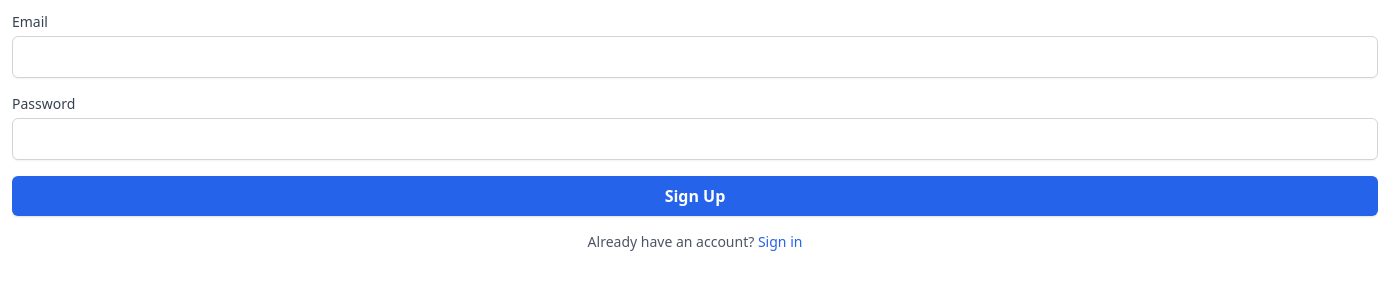
Test: SignUpForm › shows API error message when sign-up returns a conflict
This screenshot has width=1390, height=304.
Step 1. Type "duplicate@example.com" into the field labelled "Email" → (695, 57), box [12,36,1378,78]
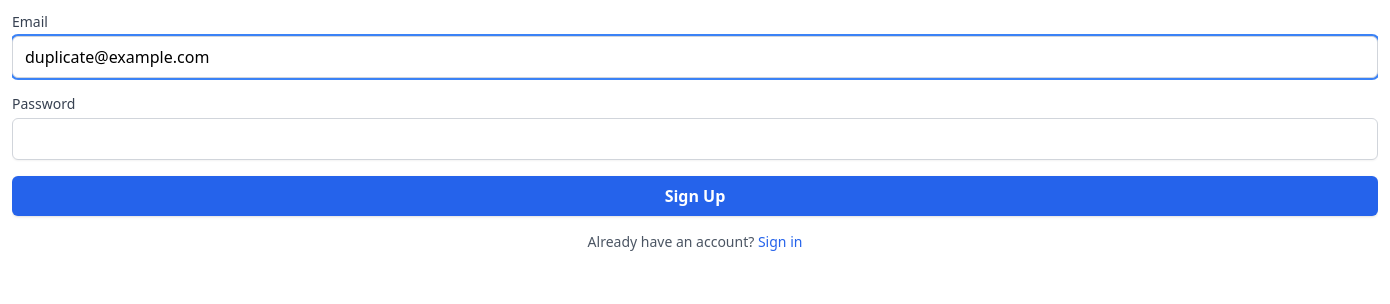
Step 2. Type "password123" into the password field labelled "Password" → (695, 139), box [12,118,1378,160]
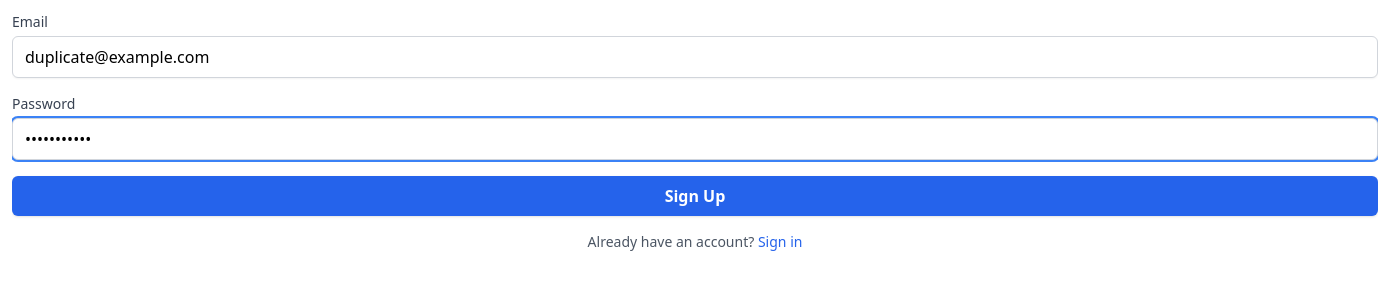
Step 3. Click the button "Sign Up" → (695, 196), box [12,176,1378,216]
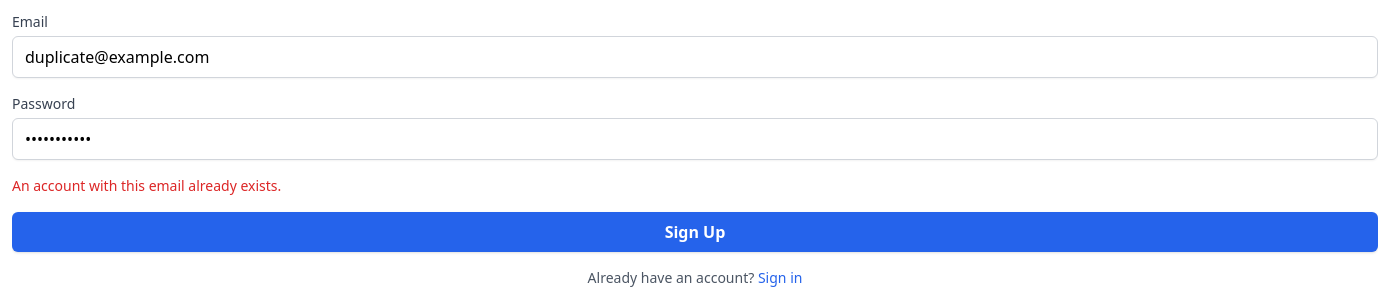
Expected: the text "An account with this email already exists." is shown, [12,176,281,195]
